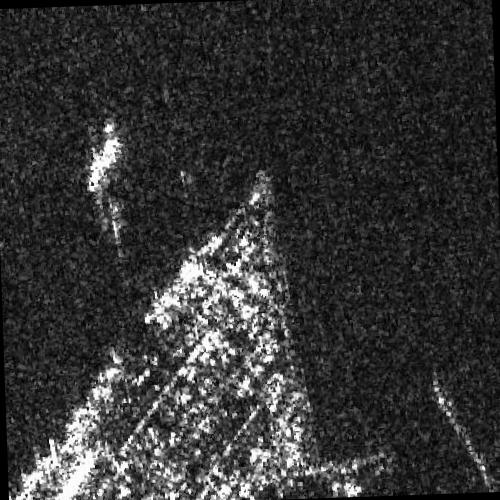ship: (86, 133, 123, 192)
